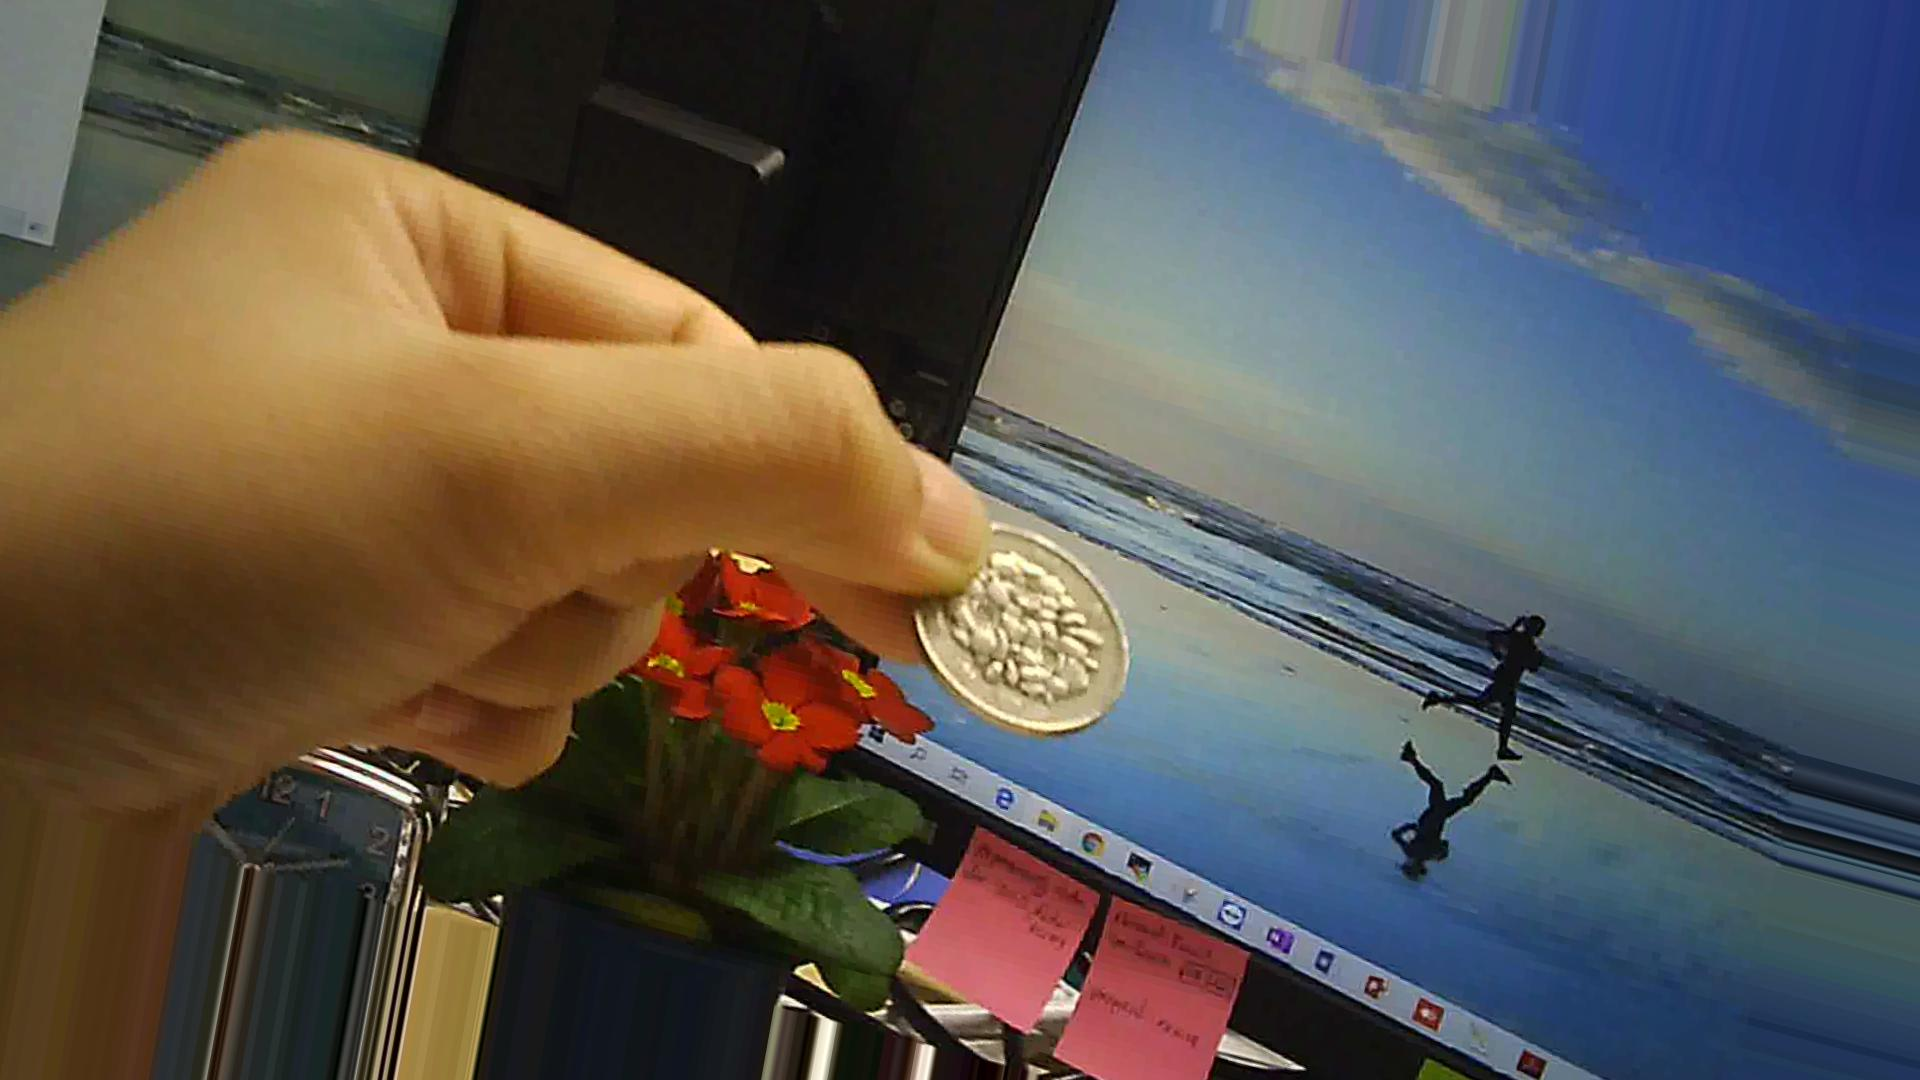100 Yen: (895, 489, 1131, 742)
